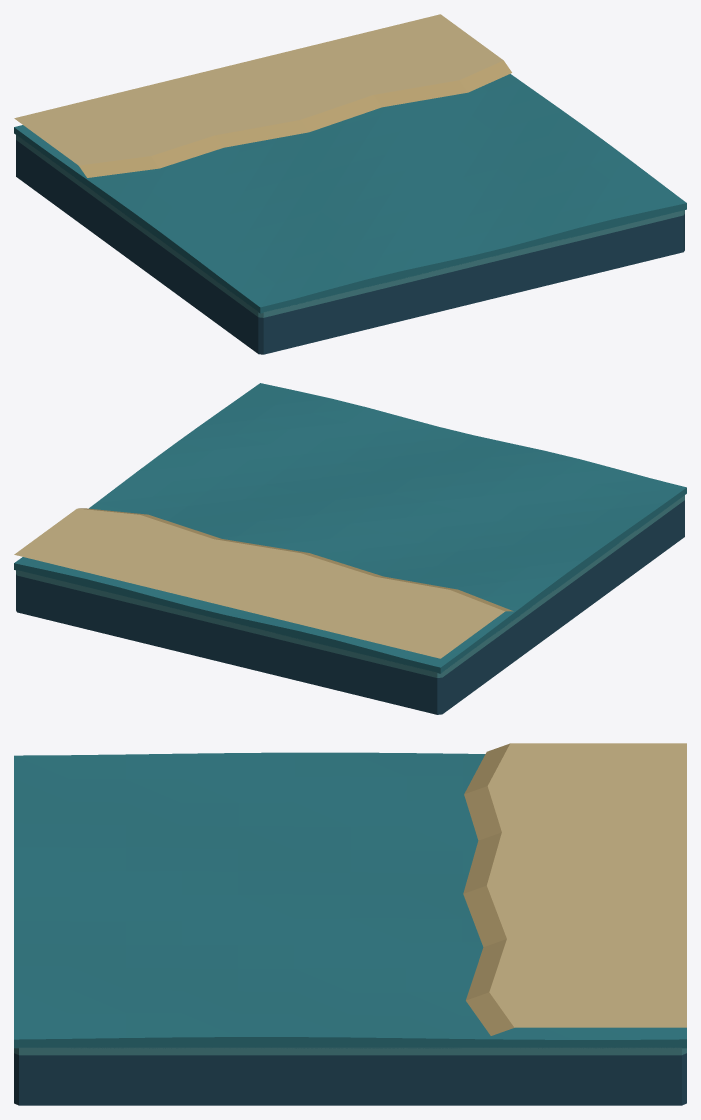
3 views of the same model, one above another, from view 1: azimuth 30°, elevation 25°; view 2: azimuth 150°, elevation 25°; view 3: azimuth 270°, elevation 25° (orthographic). The views are drawn at different scales.
Parts seen in each view (by area): view 1: B11_海岸宽滩; view 2: B11_海岸宽滩; view 3: B11_海岸宽滩.
Part boxes in pixels (bbox=[...]): B11_海岸宽滩: bbox=[14, 14, 686, 354]; B11_海岸宽滩: bbox=[14, 383, 686, 714]; B11_海岸宽滩: bbox=[14, 743, 686, 1105].
Bounding box in the file's own units: 8 × 1.02 × 8.
